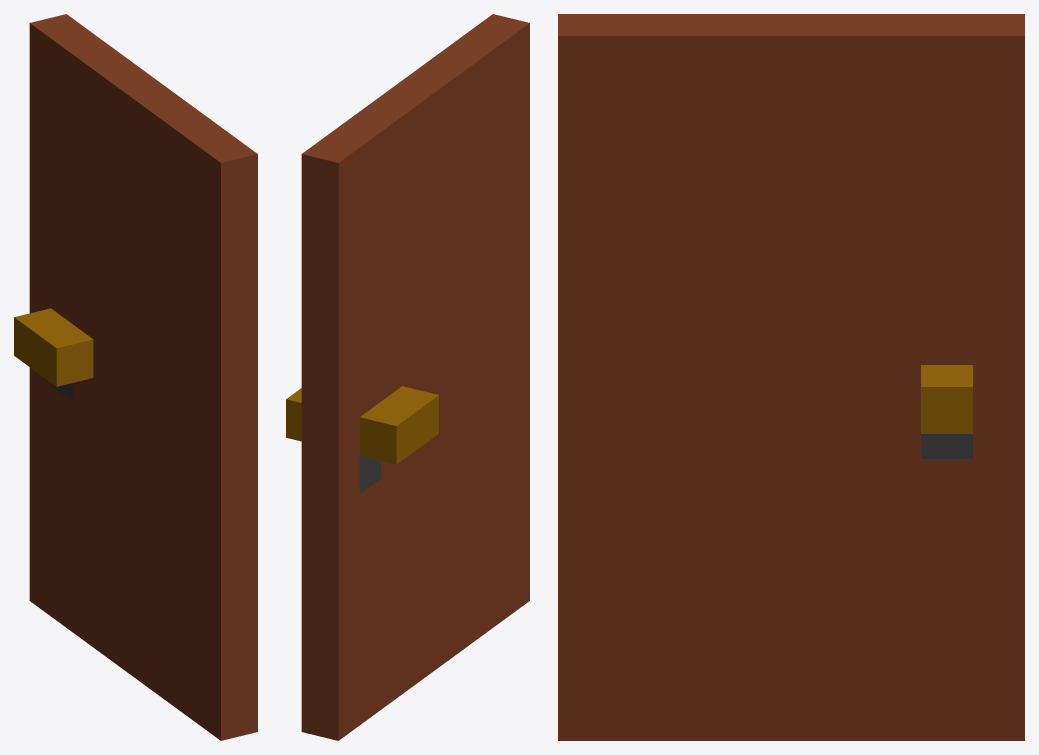
File: Door 3.obj
3 renders of one model, left to right at view 1: azimuth 30°, elevation 25°; view 2: azimuth 150°, elevation 25°; view 3: azimuth 270°, elevation 25°, orthographic. The views are drawn at different scales.
Visible parts, largest first — view 1: Door 3; view 2: Door 3; view 3: Door 3.
Boxes of the visible parts, <box> form: Door 3: <box>14,14,257,740</box>; Door 3: <box>286,14,529,740</box>; Door 3: <box>558,14,1024,740</box>.
Size of the model in its own units: 3 by 15 by 9.
